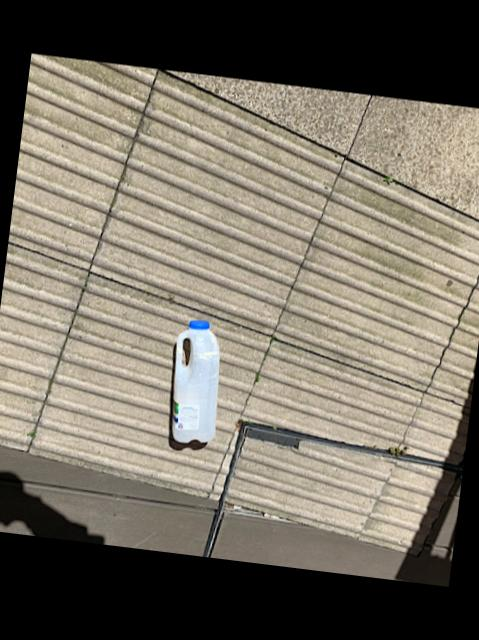plastic: (165, 319, 216, 448)
